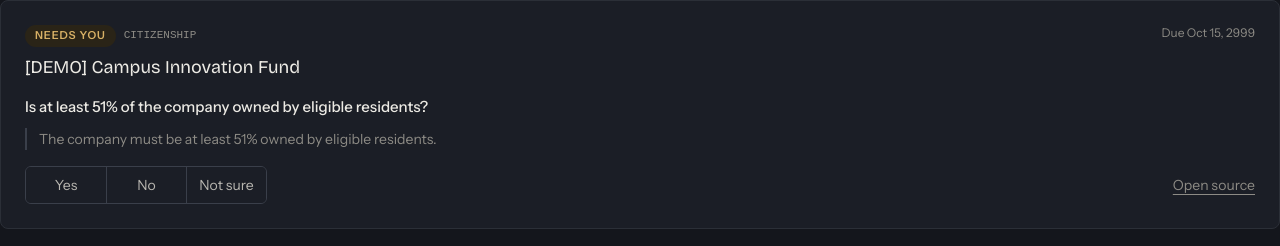
EligibilityQuestionCard › saves a definite founder answer and refreshes the queue
This screenshot has width=1280, height=246.
Click the button "Yes" at point(66, 186), box [26,168,106,204]
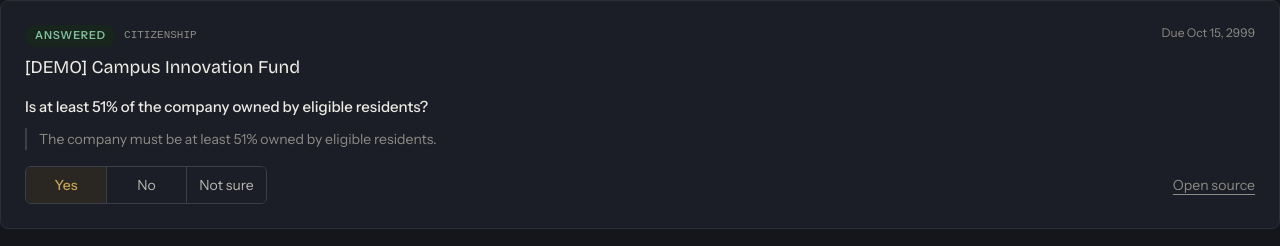
Expected: the text "Answered" is shown, [25,25,116,47]
